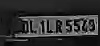1: (39, 19, 45, 36)
4: (81, 19, 89, 34)
5: (72, 18, 82, 34), (65, 18, 72, 34)
9: (88, 19, 96, 34)
D: (22, 17, 29, 36)
L: (28, 20, 37, 34), (45, 19, 53, 34)
R: (54, 19, 65, 35)
